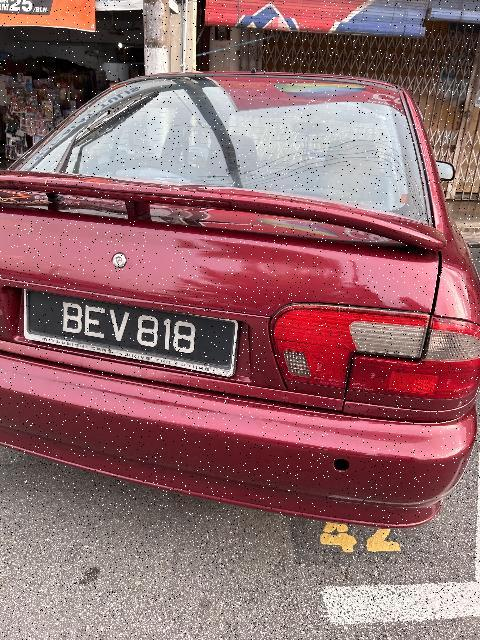License_Plate: (25, 289, 242, 382)
bev818: (25, 289, 242, 382)
car: (1, 51, 480, 538)
